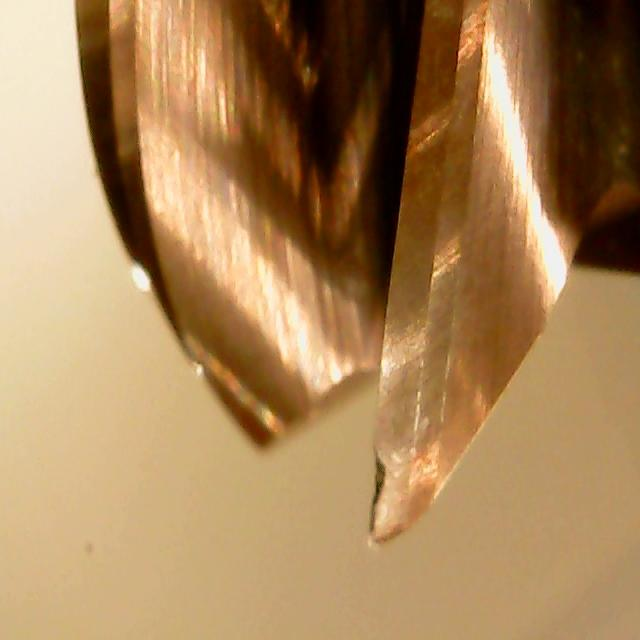Tool-wear-class-1: (356, 341, 463, 552)
